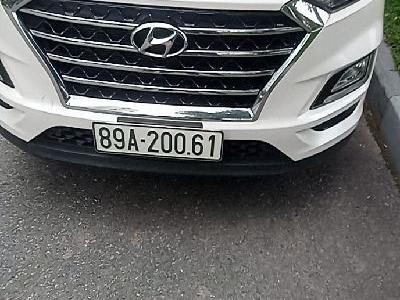car: (91, 120, 224, 164)
